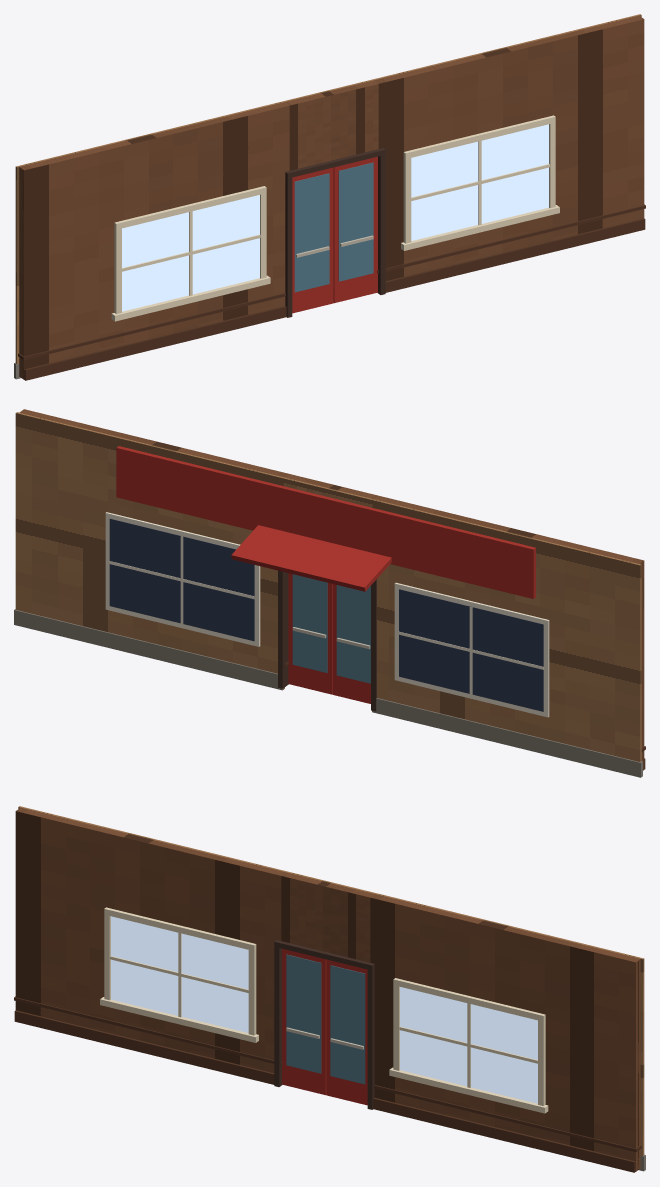
File: front.glb
3 views of the same model, one above another, from view 1: azimuth 30°, elevation 25°; view 2: azimuth 150°, elevation 25°; view 3: azimuth 330°, elevation 25° (orthographic).
Parts seen in each view (by area): view 1: Box1, Box3, Box41, Box30, Box5, Box19, Box15, Box2, Box4, Box18, Box14, Box6 (+16 smaller); view 2: Box6, Box8, Box44, Box23, Box34, Box45, Box7, Box9, Box19, Box15, Box22, Box33 (+9 smaller); view 3: Box3, Box1, Box30, Box41, Box5, Box15, Box19, Box4, Box2, Box14, Box18, Box8 (+16 smaller).
Boxes of the visible parts, x1,y1,x2,y2 form: Box1: (19, 102, 289, 379); Box3: (374, 15, 644, 280); Box41: (411, 124, 548, 240); Box30: (122, 195, 259, 311); Box5: (285, 80, 378, 170); Box19: (338, 162, 373, 281); Box15: (294, 173, 329, 292); Box2: (24, 306, 286, 380); Box4: (385, 218, 645, 292); Box18: (333, 156, 377, 303); Box14: (292, 167, 333, 313); Box6: (15, 101, 284, 363); Box6: (372, 499, 641, 761); Box8: (15, 412, 284, 689); Box44: (116, 446, 535, 598); Box23: (399, 589, 543, 711); Box34: (109, 518, 254, 641); Box45: (231, 525, 391, 591); Box7: (372, 698, 642, 777); Box9: (14, 609, 283, 690); Box19: (292, 574, 327, 672); Box15: (336, 585, 370, 683); Box22: (394, 582, 549, 717); Box33: (105, 512, 260, 646); Box3: (370, 894, 640, 1171); Box1: (15, 807, 285, 1072); Box30: (111, 916, 248, 1032); Box41: (400, 987, 537, 1103); Box5: (281, 872, 374, 962); Box15: (286, 954, 321, 1073); Box19: (330, 965, 365, 1084); Box4: (373, 1098, 635, 1172); Box2: (14, 1010, 274, 1084); Box14: (282, 948, 326, 1095); Box18: (326, 959, 367, 1105); Box8: (375, 893, 644, 1155).
Bounding box in the file's own units: 11.27 × 3.64 × 1.22.
12 materials, 2 textured.
